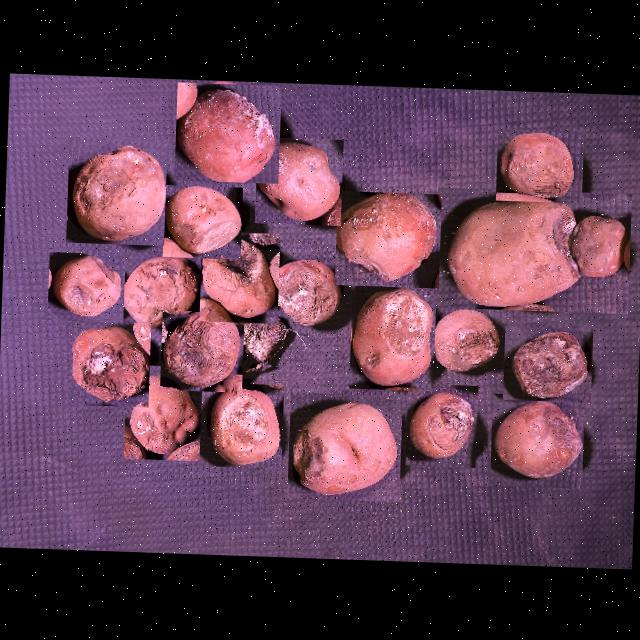Damaged potato: (432, 186, 630, 313), (286, 391, 402, 501), (173, 80, 280, 182), (65, 136, 166, 244), (334, 190, 441, 288), (348, 281, 436, 390), (488, 392, 584, 487), (254, 136, 342, 224), (122, 363, 201, 460), (198, 230, 279, 322), (198, 381, 283, 468), (67, 318, 150, 406), (158, 308, 244, 392), (501, 324, 592, 402), (118, 249, 200, 330), (494, 127, 582, 202), (404, 382, 477, 467), (262, 255, 342, 332), (162, 184, 242, 258), (46, 250, 124, 322), (427, 303, 502, 377), (238, 304, 288, 372)
